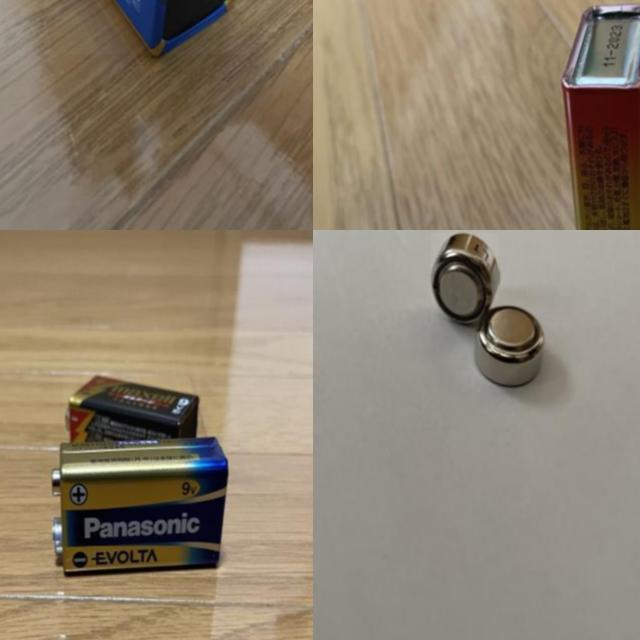9V: (48, 436, 228, 574), (561, 0, 640, 230), (63, 372, 200, 470), (44, 0, 250, 54)
